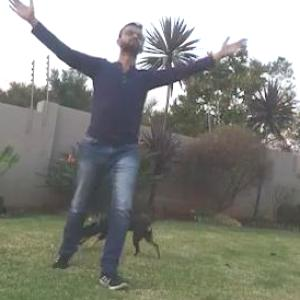takeoff: (10, 28, 217, 260)
